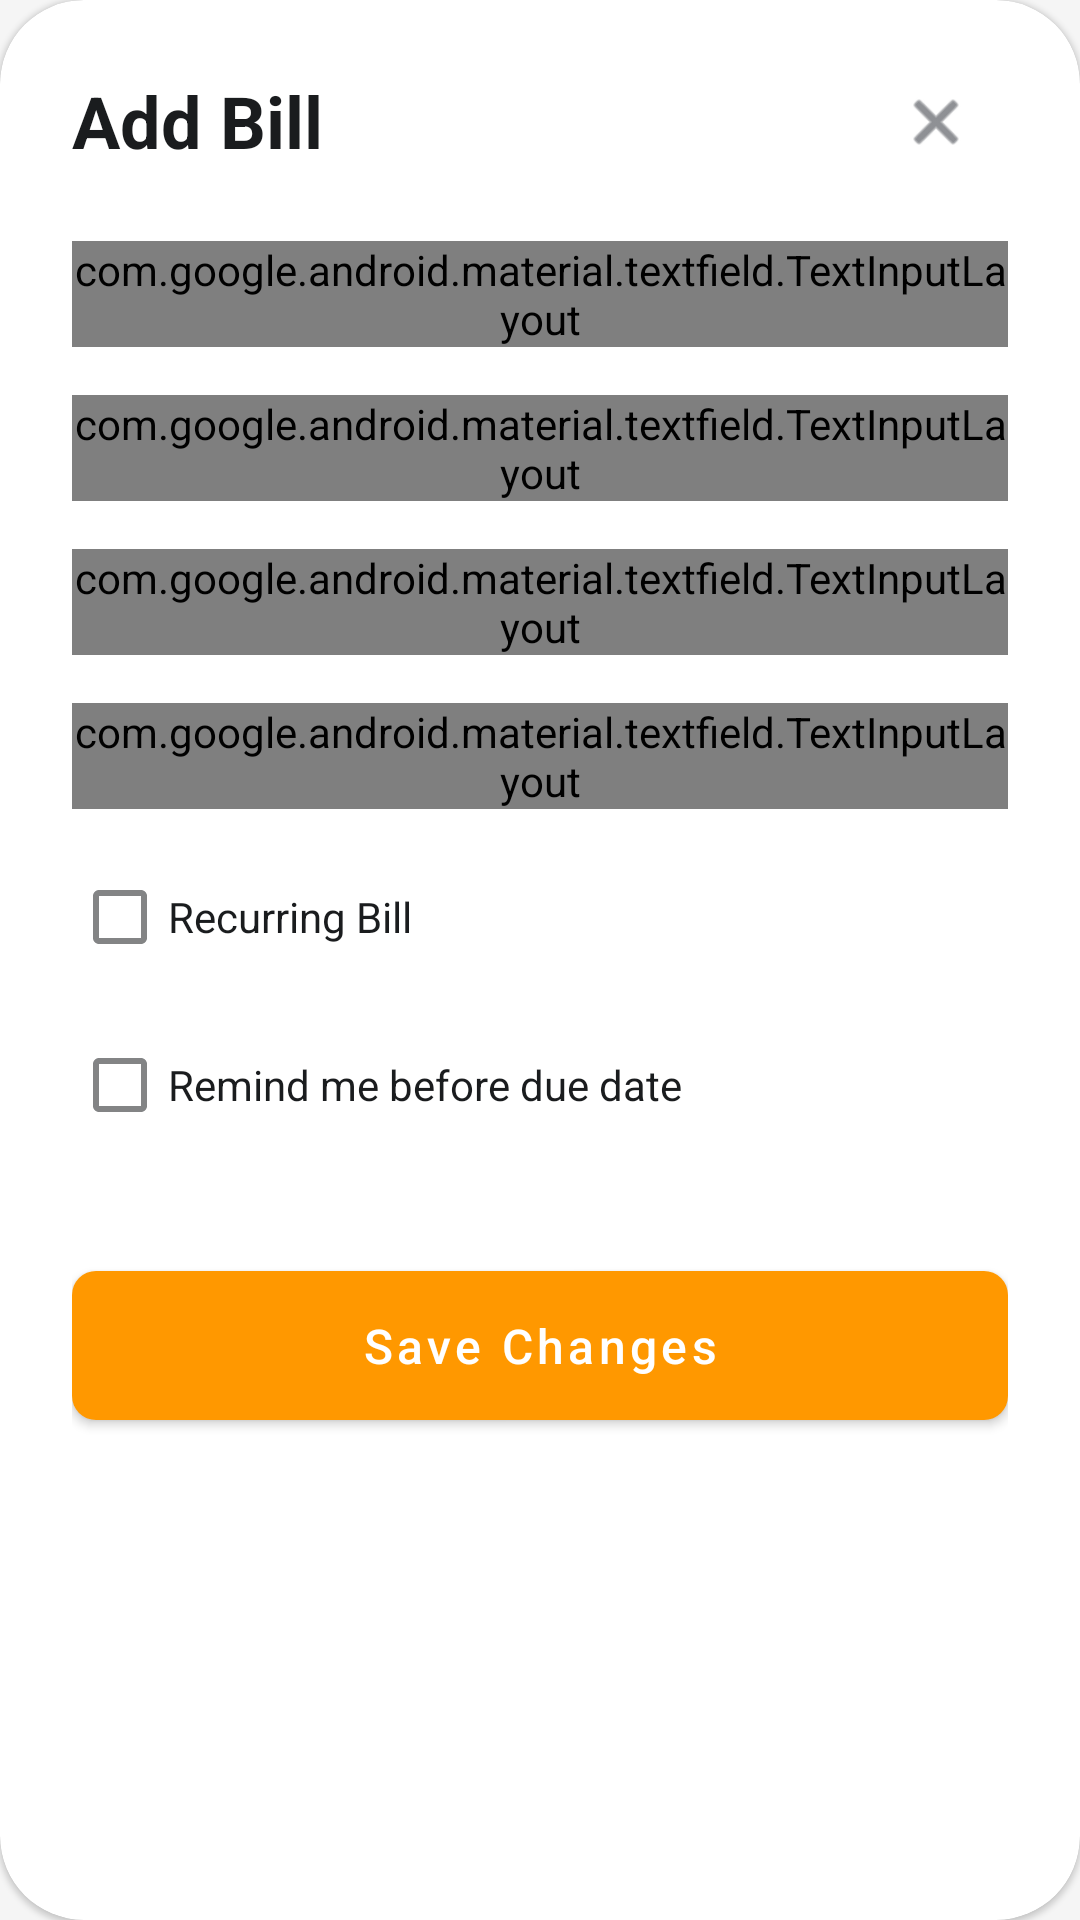

Where icons sit on this 1080px x 1920px app screen, as (x1, y1, x2, y2):
Close dialog: (914, 100, 958, 144)
